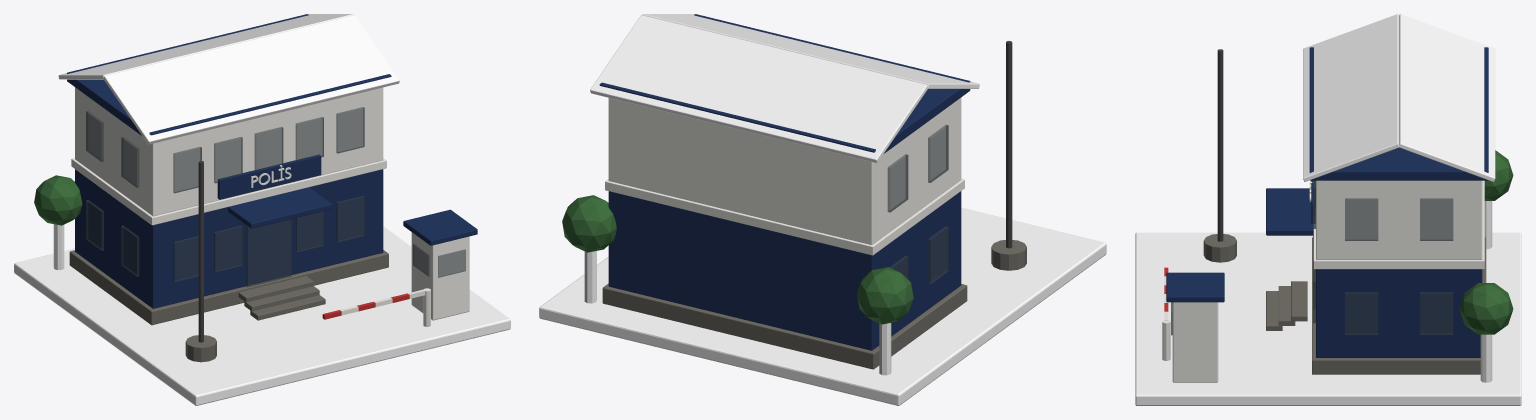
File: karakol.glb
3 views of the same model, side by side, from view 1: azimuth 30°, elevation 25°; view 2: azimuth 150°, elevation 25°; view 3: azimuth 270°, elevation 25° (orthographic). The views are drawn at different scales.
Visible parts, largest first — view 1: Bariyer; view 2: Bariyer; view 3: Bariyer.
Boxes of the visible parts, x1,y1,x2,y2 form: Bariyer: [14, 14, 510, 405]; Bariyer: [539, 14, 1106, 405]; Bariyer: [1135, 14, 1521, 405].
Size of the model in its own units: 1 by 0.7028 by 1.
